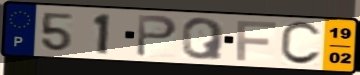1: (91, 12, 113, 56)
5: (40, 12, 76, 52)
C: (278, 20, 324, 68)
F: (235, 20, 279, 63)
P: (134, 13, 180, 59)
Q: (180, 17, 227, 61)
